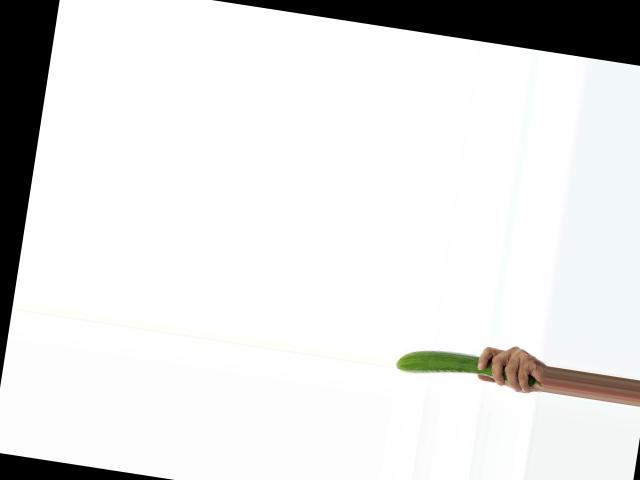cucumber: (394, 343, 542, 392)
